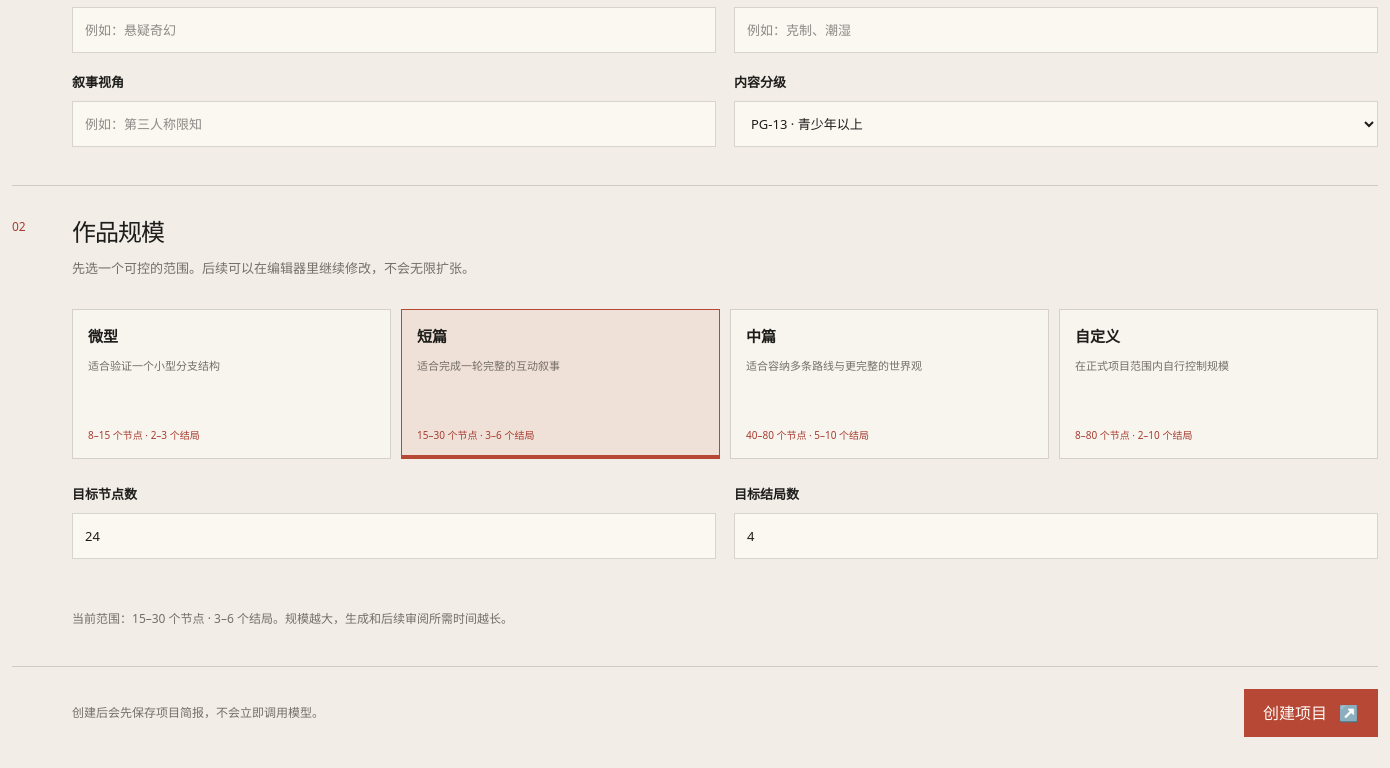
Test: ProjectBriefForm › defaults to short and exposes the locked preset ranges
(page scrolled)
Expected: the radio button labelled "短篇 适合完成一轮完整的互动叙事 15–30 个节点 · 3–6 个结局" is checked, [401,309,720,459]
Expected: the number field labelled "目标节点数" holds "24", [72,513,716,559]
Click the radio button labelled "微型 适合验证一个小型分支结构 8–15 个节点 · 2–3 个结局". click: (103, 336)
box: [72,309,391,459]
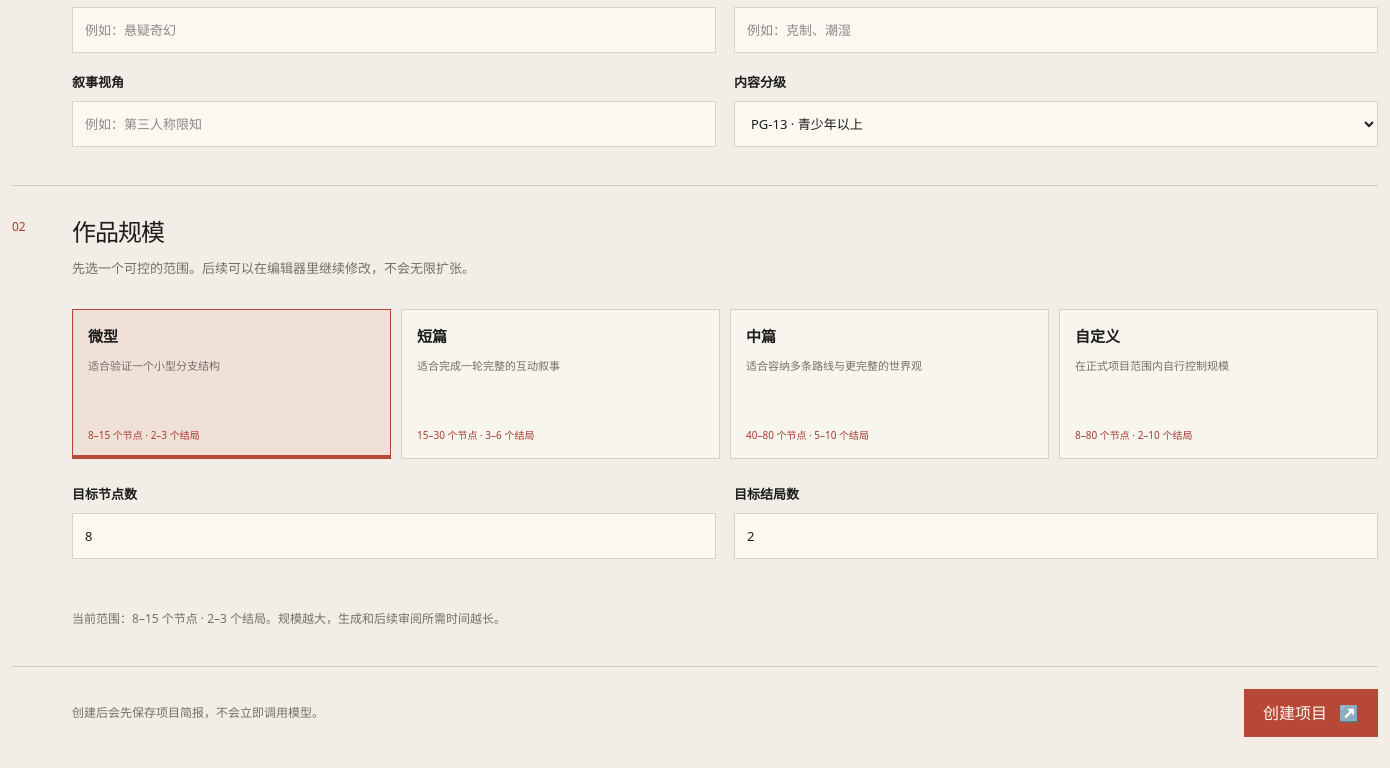
Expected: the text "8–15 个节点 · 2–3 个结局" is shown, [88,428,200,442]
Result: the number field labelled "目标节点数" holds "8" at [72,513,716,559]
Result: the number field labelled "目标结局数" holds "2" at [734,513,1378,559]
Click the radio button labelled "中篇 适合容纳多条路线与更完整的世界观 40–80 个节点 · 5–10 个结局". click: (761, 336)
box: [730,309,1049,459]
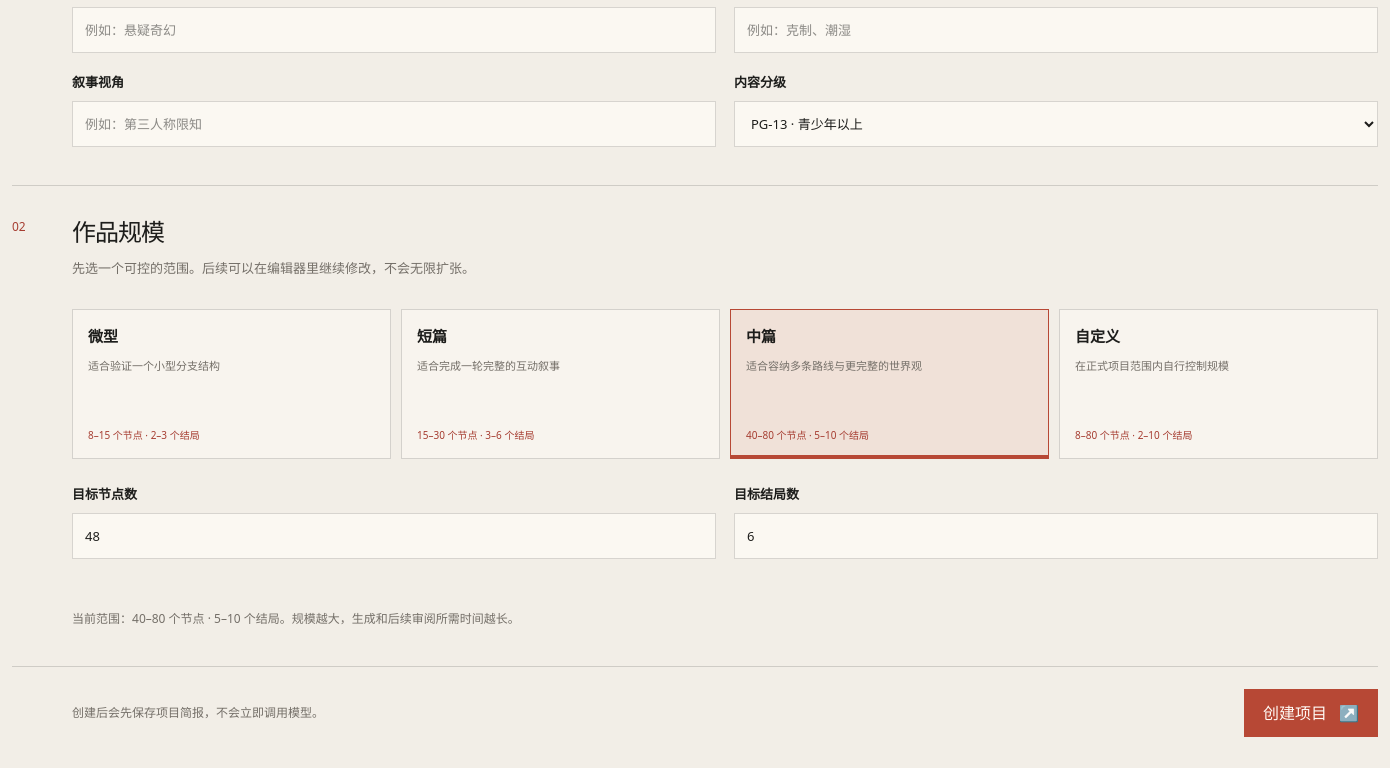
Expected: the text "40–80 个节点 · 5–10 个结局" is shown, [746,428,869,442]
Result: the number field labelled "目标节点数" holds "48" at [72,513,716,559]
Result: the number field labelled "目标结局数" holds "6" at [734,513,1378,559]
